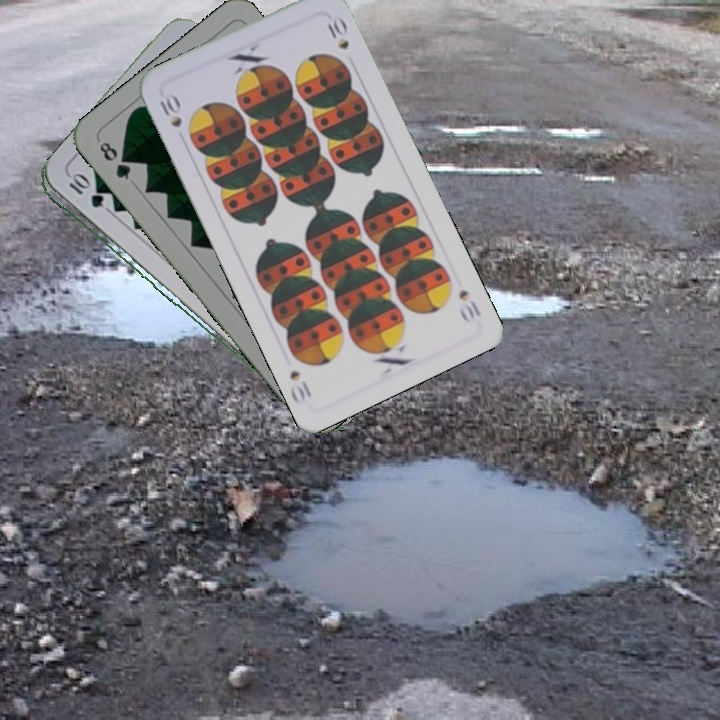G10: (65, 172, 106, 211)
G8: (95, 137, 134, 183)
S10: (155, 88, 185, 130), (454, 285, 484, 325)
